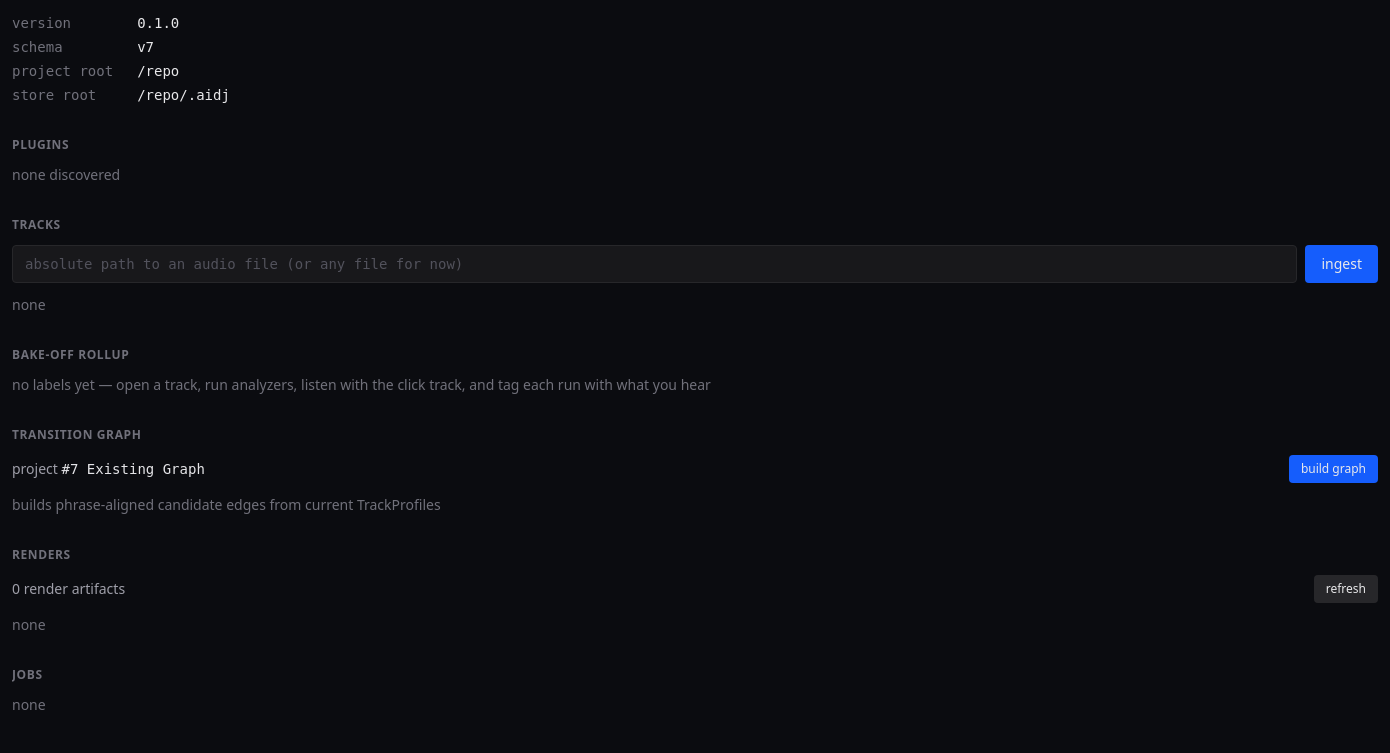
LibraryPage contract wiring › renders a graph candidate and shows the completed artifact
Click the button "build graph" at coordinates (1333, 469), box left=1289, top=455, right=1378, bottom=483
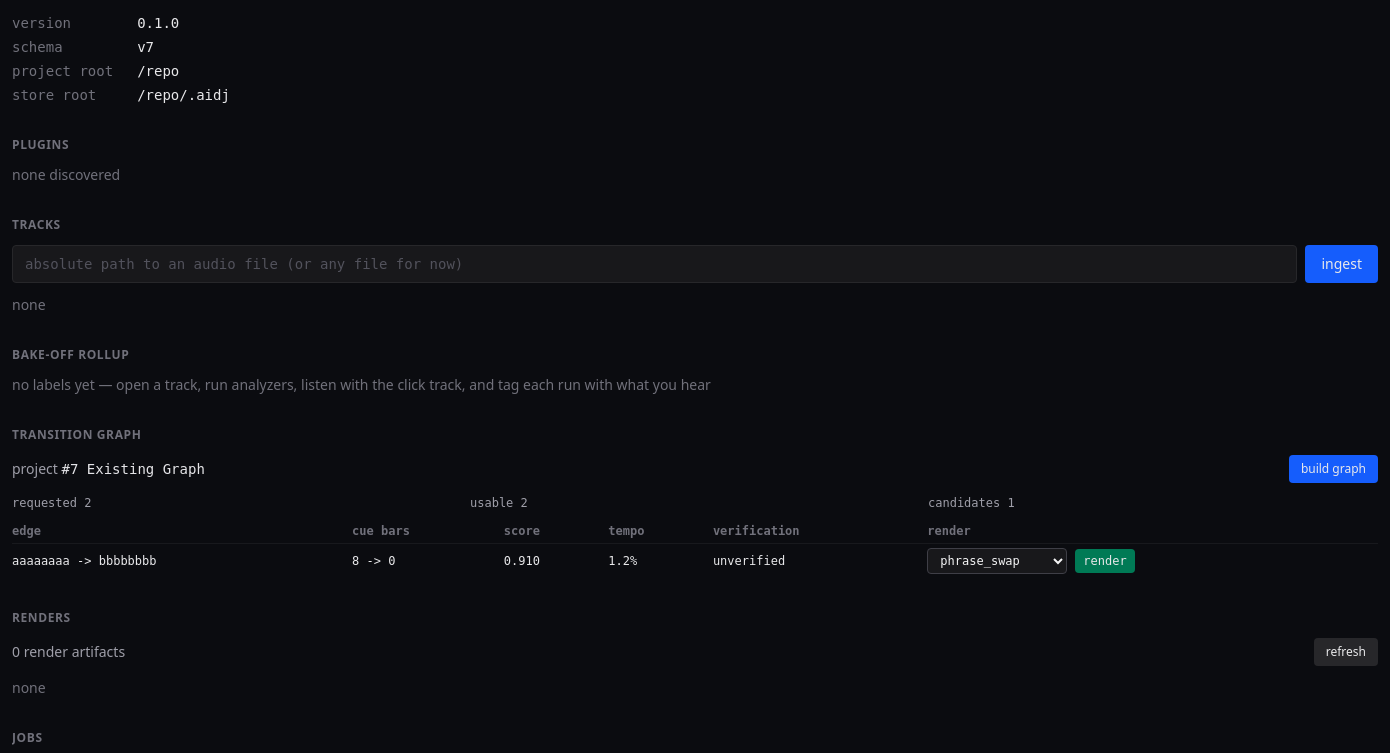
Click the button "render" at coordinates (1105, 561), box left=1075, top=549, right=1135, bottom=573
(page scrolled)
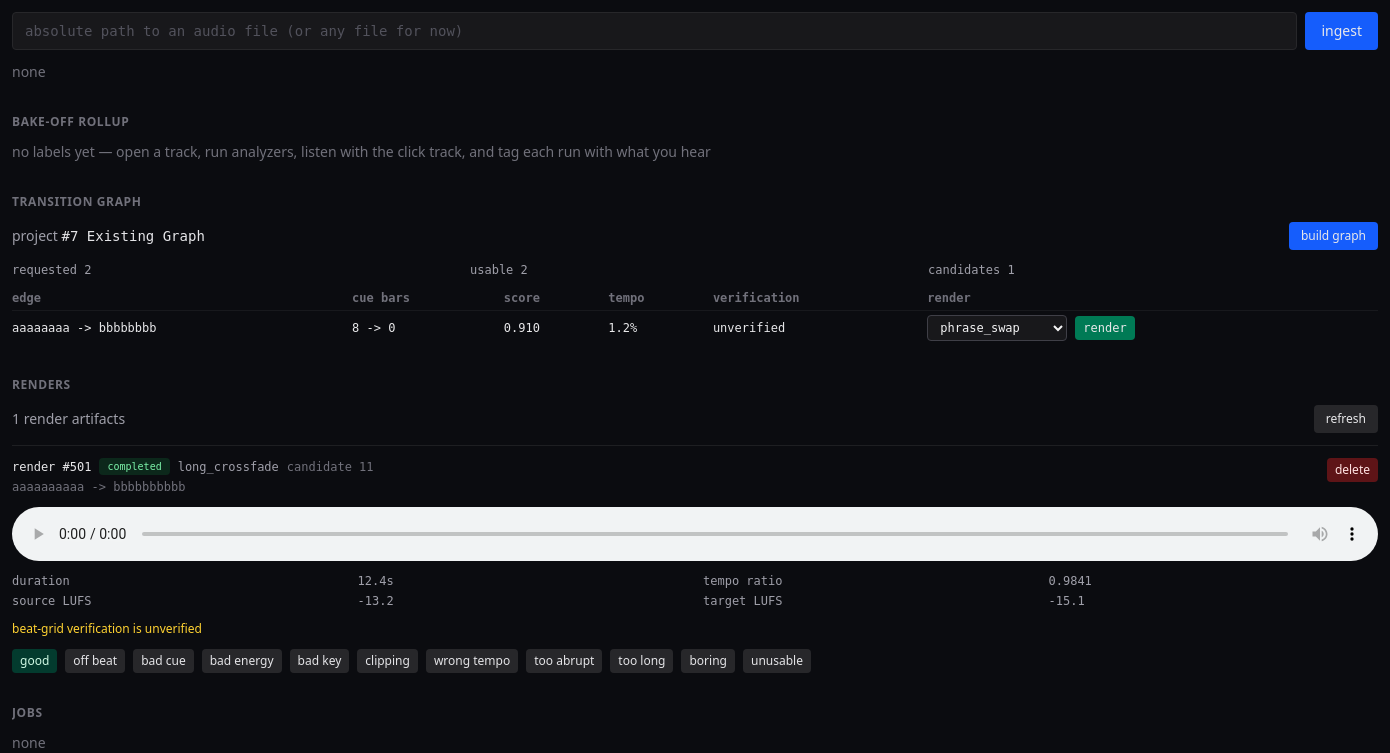
Result: the text "render #501" is shown at left=12, top=459, right=92, bottom=475
Result: the list item "beat-grid verification is unverified" is shown at left=12, top=620, right=202, bottom=637
